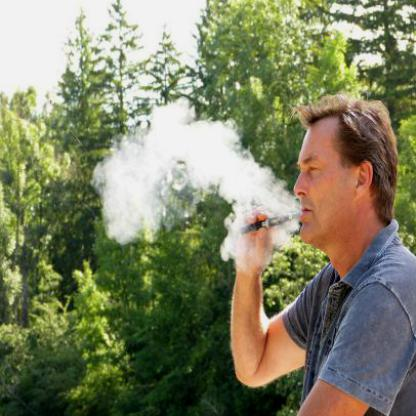cigarette: (240, 212, 303, 235)
person: (287, 98, 415, 415)
smoke: (96, 110, 197, 243), (194, 117, 296, 208)
